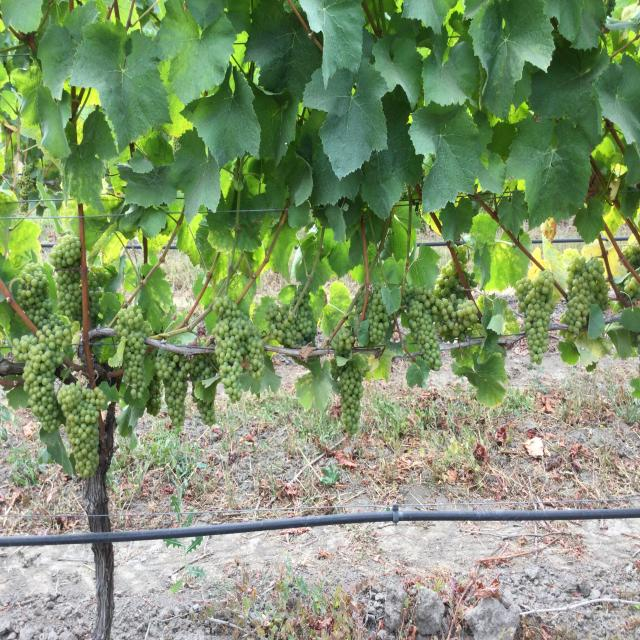grapes: (12, 315, 71, 433), (212, 295, 264, 403), (58, 382, 105, 478), (516, 270, 555, 365), (434, 260, 479, 340), (564, 257, 609, 335), (115, 307, 152, 398), (402, 287, 441, 370), (331, 355, 366, 435), (155, 350, 190, 428), (50, 235, 82, 320), (265, 295, 316, 347), (14, 263, 52, 328), (190, 355, 216, 427), (88, 267, 111, 322), (366, 290, 389, 345), (330, 325, 355, 355), (455, 247, 468, 270)
